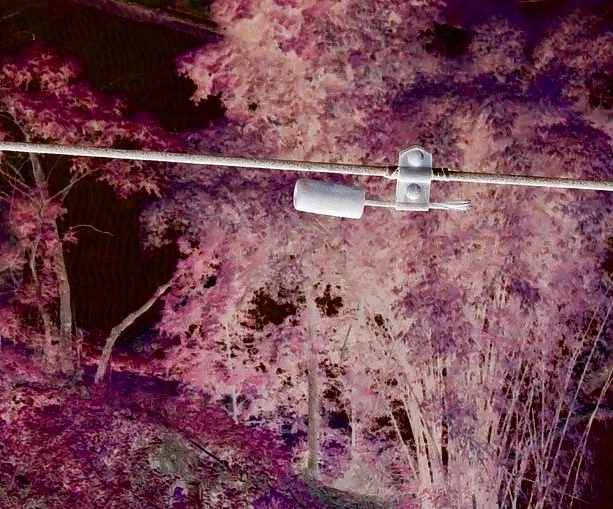Damage of shockproof hammer: (279, 142, 484, 229)
